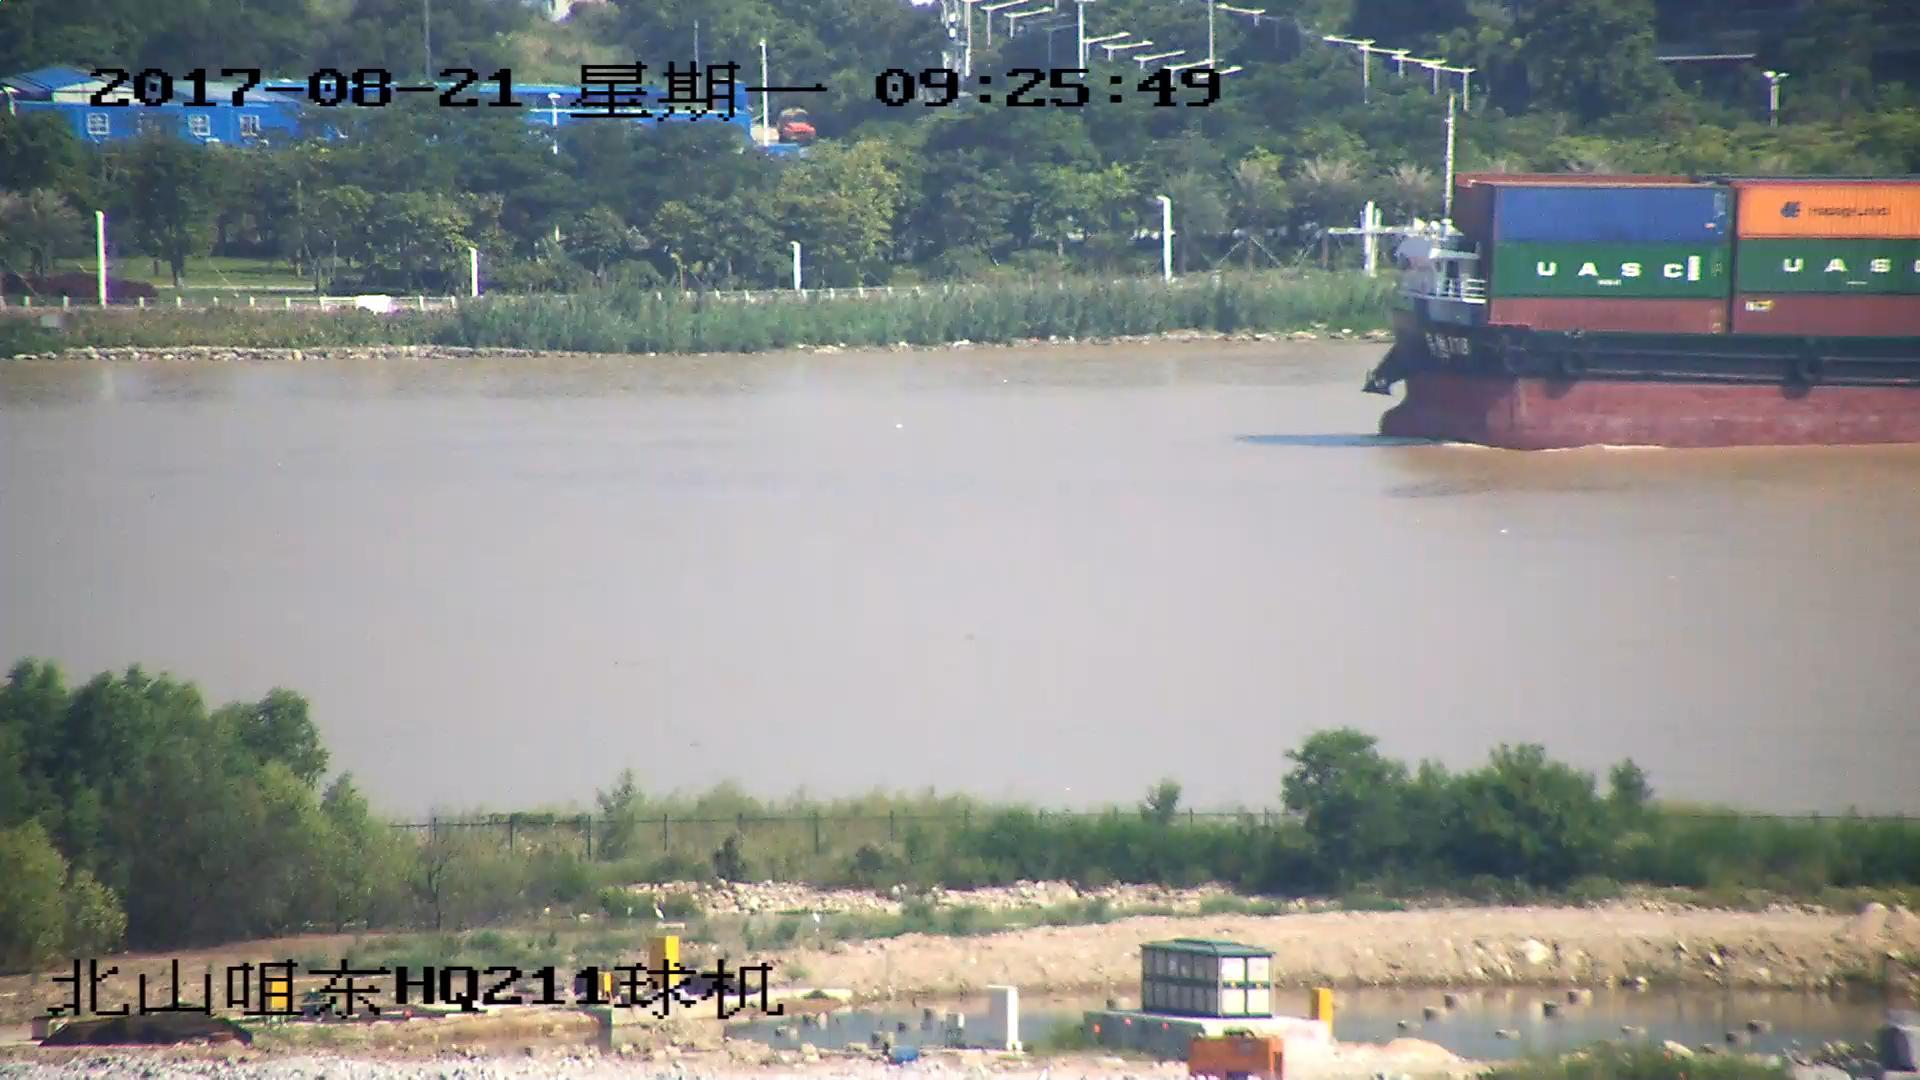Ship: (1365, 109, 1920, 448)
